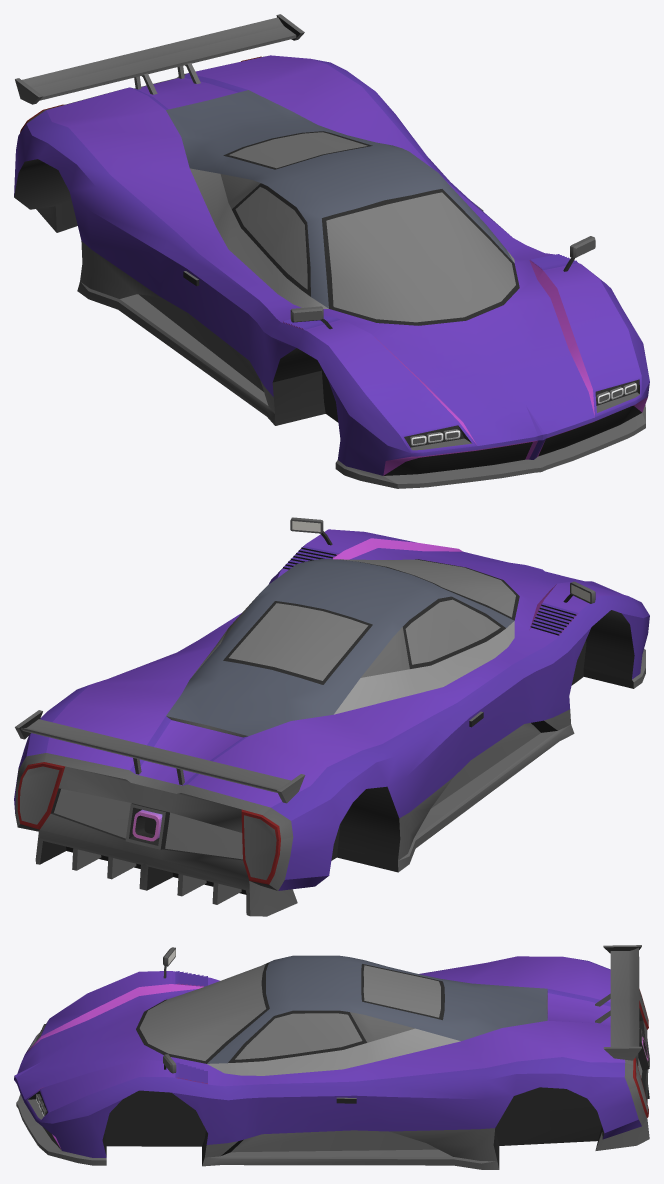
File: Car_14.fbx
3 views of the same model, one above another, from view 1: azimuth 30°, elevation 25°; view 2: azimuth 150°, elevation 25°; view 3: azimuth 270°, elevation 25° (orthographic). The views are drawn at different scales.
Parts seen in each view (by area): view 1: Car_14; view 2: Car_14; view 3: Car_14.
Boxes of the visible parts, x1,y1,x2,y2 form: Car_14: (14, 14, 649, 488); Car_14: (14, 517, 649, 916); Car_14: (14, 945, 649, 1169).
Size of the model in its own units: 203 by 100 by 438.
